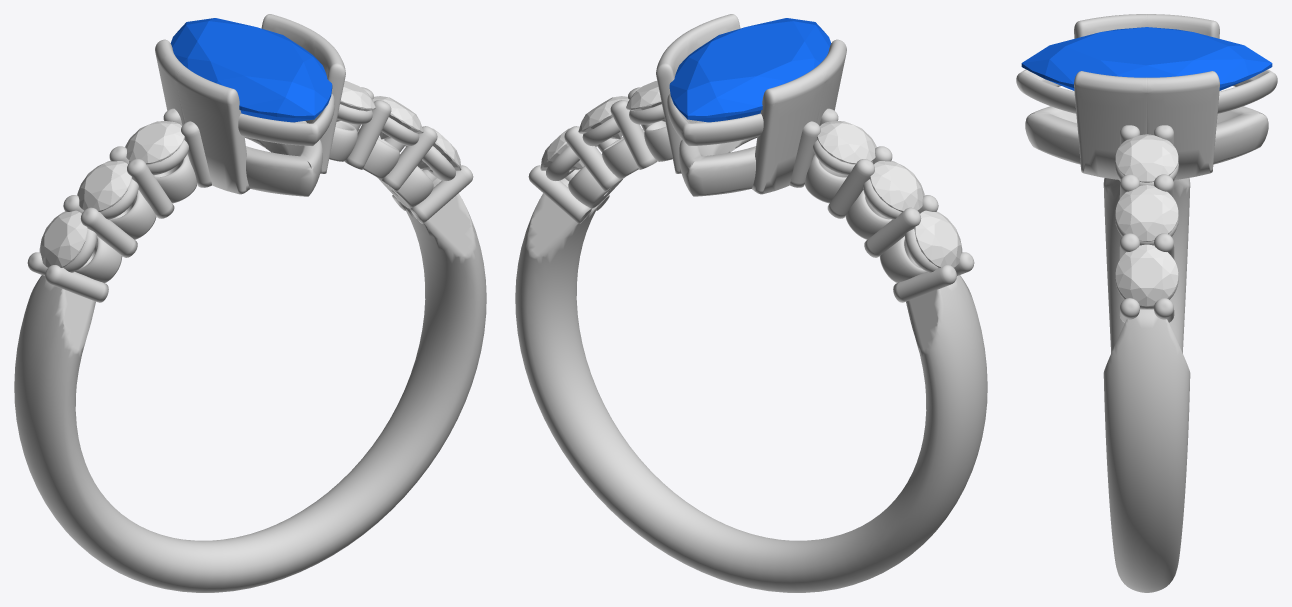
The model's file is bluesapphire-marquise-platinum-halfmoonbezel-taperedband-7stone.glb.
The picture shows the model from 3 angles, left to right: view 1: azimuth 30°, elevation 25°; view 2: azimuth 150°, elevation 25°; view 3: azimuth 270°, elevation 25°; orthographic projection.
Visible parts, largest first — view 1: metal.003, stone.001, dia.002, dia.015, dia.016, dia.018, dia.019; view 2: metal.003, stone.001, dia.002, dia.015, dia.016, dia.018, dia.019; view 3: metal.003, stone.001, dia.017, dia.018, dia.019.
Boxes of the visible parts, <box> form: metal.003: <box>14,14,486,592</box>; stone.001: <box>170,18,332,122</box>; dia.002: <box>39,210,87,267</box>; dia.015: <box>77,161,131,211</box>; dia.016: <box>125,121,184,164</box>; dia.018: <box>372,96,423,139</box>; dia.019: <box>336,81,375,121</box>; metal.003: <box>515,14,987,592</box>; stone.001: <box>669,18,831,122</box>; dia.002: <box>914,210,962,267</box>; dia.015: <box>870,161,924,211</box>; dia.016: <box>817,121,876,164</box>; dia.018: <box>578,96,629,139</box>; dia.019: <box>626,81,665,121</box>; metal.003: <box>1016,14,1277,592</box>; stone.001: <box>1021,27,1272,90</box>; dia.017: <box>1115,244,1178,306</box>; dia.018: <box>1115,185,1178,241</box>; dia.019: <box>1115,134,1178,182</box>.
Size of the model in its own units: 20.5 by 22.92 by 10.4.
